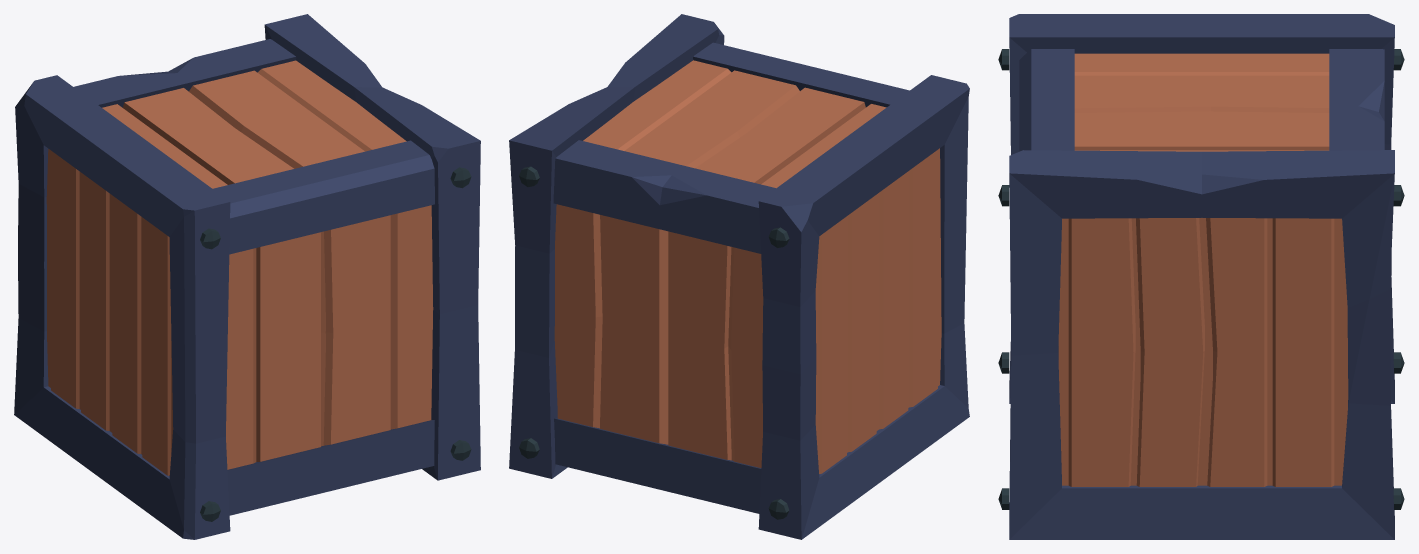
File: Box Wood 01.fbx
The picture shows the model from 3 angles, left to right: view 1: azimuth 30°, elevation 25°; view 2: azimuth 150°, elevation 25°; view 3: azimuth 270°, elevation 25°; orthographic projection. The views are drawn at different scales.
Visible parts, largest first — view 1: Box Wood 01; view 2: Box Wood 01; view 3: Box Wood 01.
Part boxes in pixels (left/top/right/bottom): Box Wood 01: left=14, top=14, right=480, bottom=539; Box Wood 01: left=509, top=14, right=969, bottom=539; Box Wood 01: left=998, top=14, right=1404, bottom=539.
Bounding box in the file's own units: 86.88 × 93.15 × 93.55.
